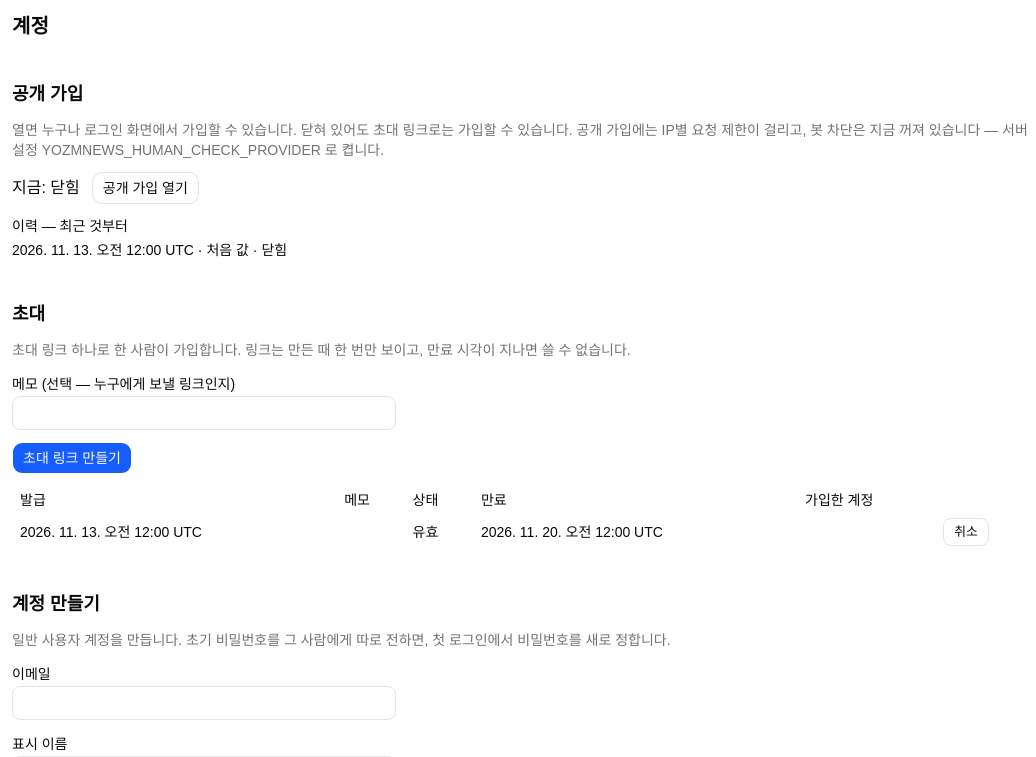
Test: AccountsPage › 취소하는 사이 쓰인 초대는 취소하지 않았다고 알린다
The image size is (1036, 757).
Click the button "취소".
click(966, 532)  # box [943,518,989,546]
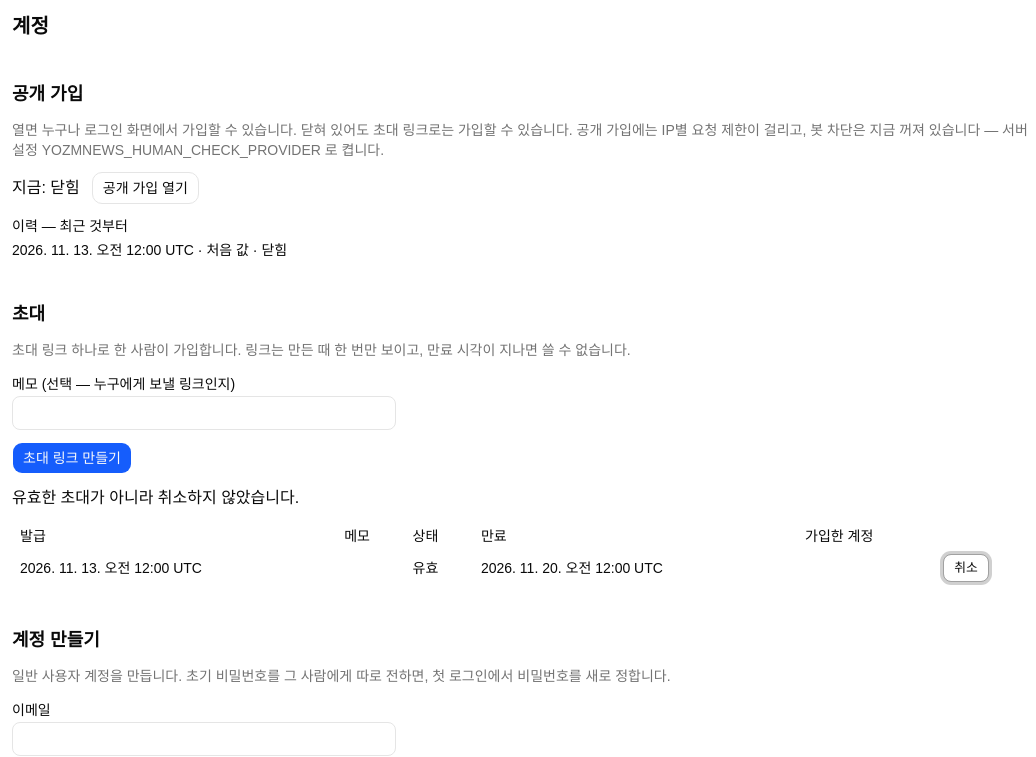
Check: the message reads "유효한 초대가 아니라 취소하지 않았습니다.", box [12,489,299,506]
